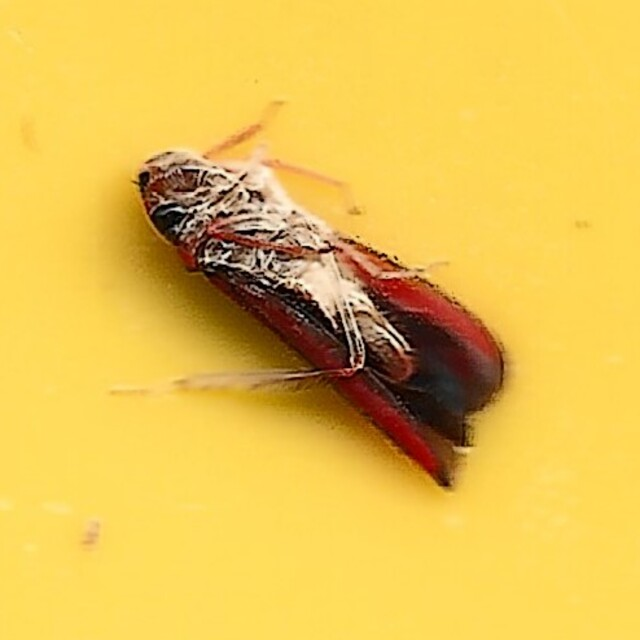Hemiptera: (130, 142, 510, 498)
